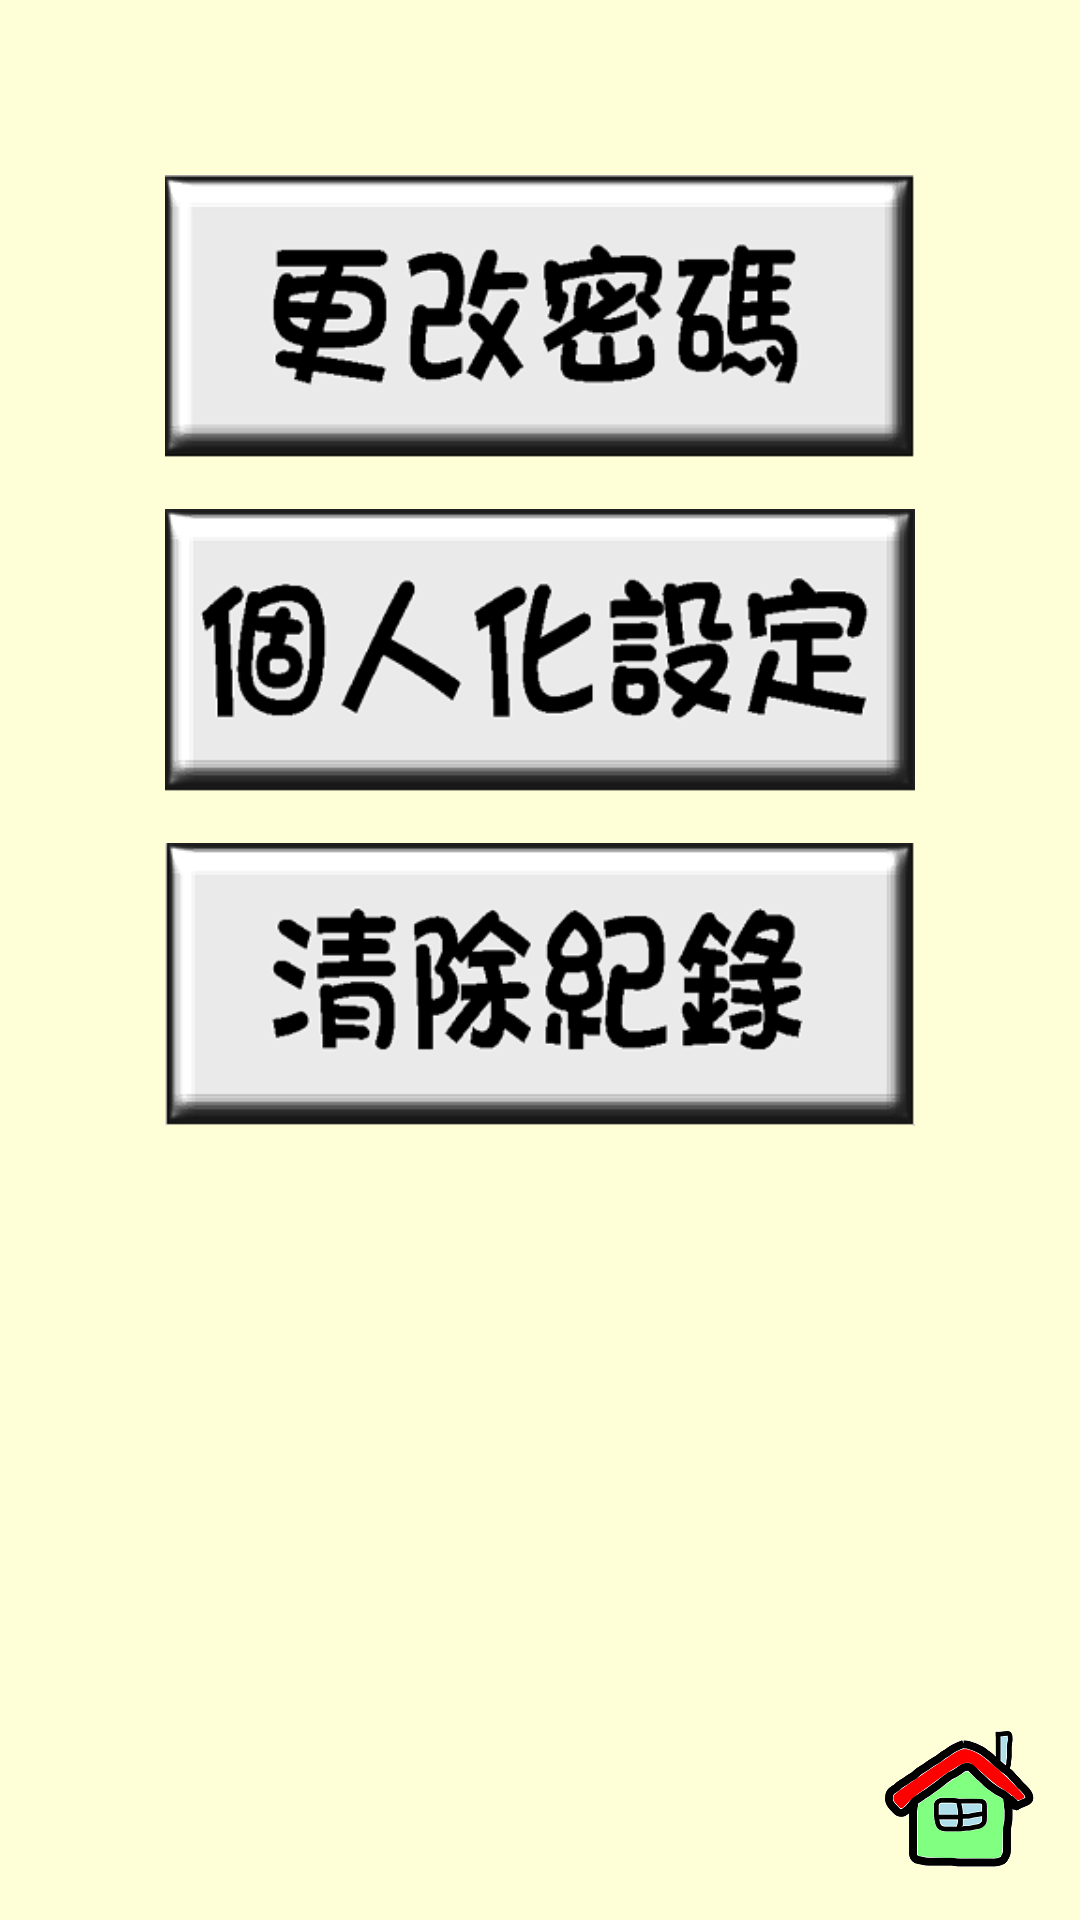

Screen size 1080px x 1920px. Icon name, then its box in pixels as [left=x1, top=y1, right=x2, bottom=y2]:
home: [left=885, top=1731, right=1034, bottom=1867]
